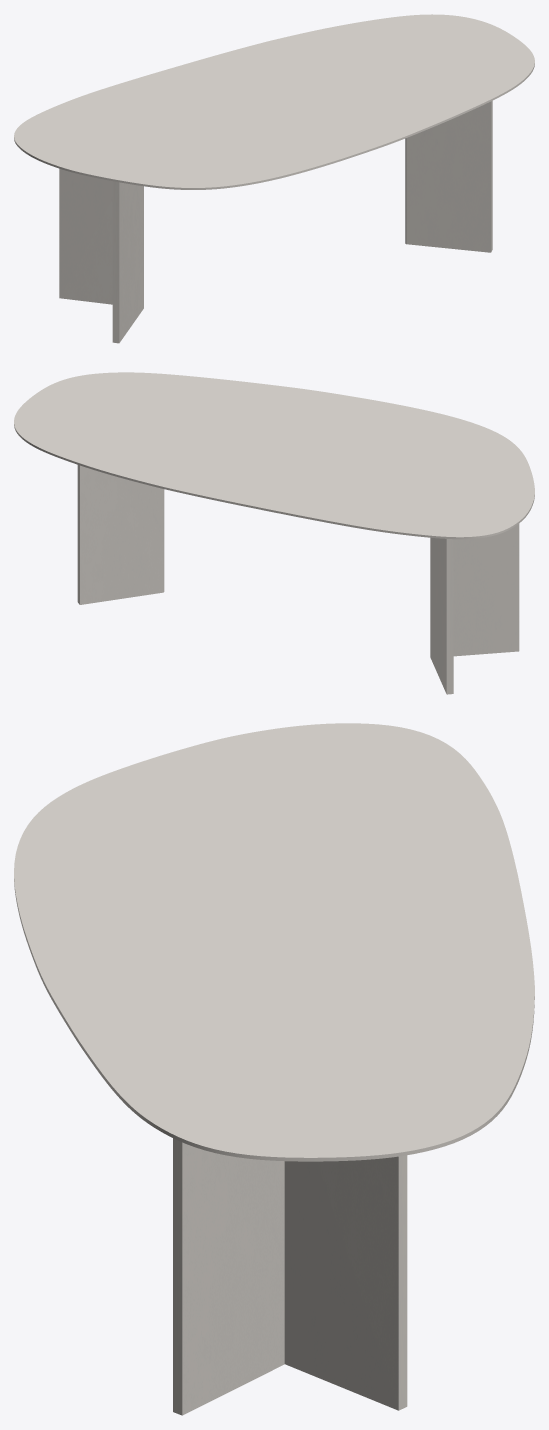
Rendered from pearlwhite_leaf2_facet_valleyv.glb.
3 renders of one model, top to bottom at view 1: azimuth 30°, elevation 25°; view 2: azimuth 150°, elevation 25°; view 3: azimuth 270°, elevation 25°, orthographic. The views are drawn at different scales.
Parts seen in each view (by area): view 1: facet_leaf2, valleyv; view 2: facet_leaf2, valleyv; view 3: facet_leaf2, valleyv.
Boxes of the visible parts, x1,y1,x2,y2 form: facet_leaf2: [14, 14, 534, 189]; valleyv: [59, 101, 492, 343]; facet_leaf2: [14, 372, 534, 539]; valleyv: [77, 465, 519, 694]; facet_leaf2: [14, 723, 534, 1161]; valleyv: [173, 1138, 407, 1415].
Bounding box in the file's own units: 7.5 × 2.51 × 3.8.
Materials: 1 (1 with a texture image).
